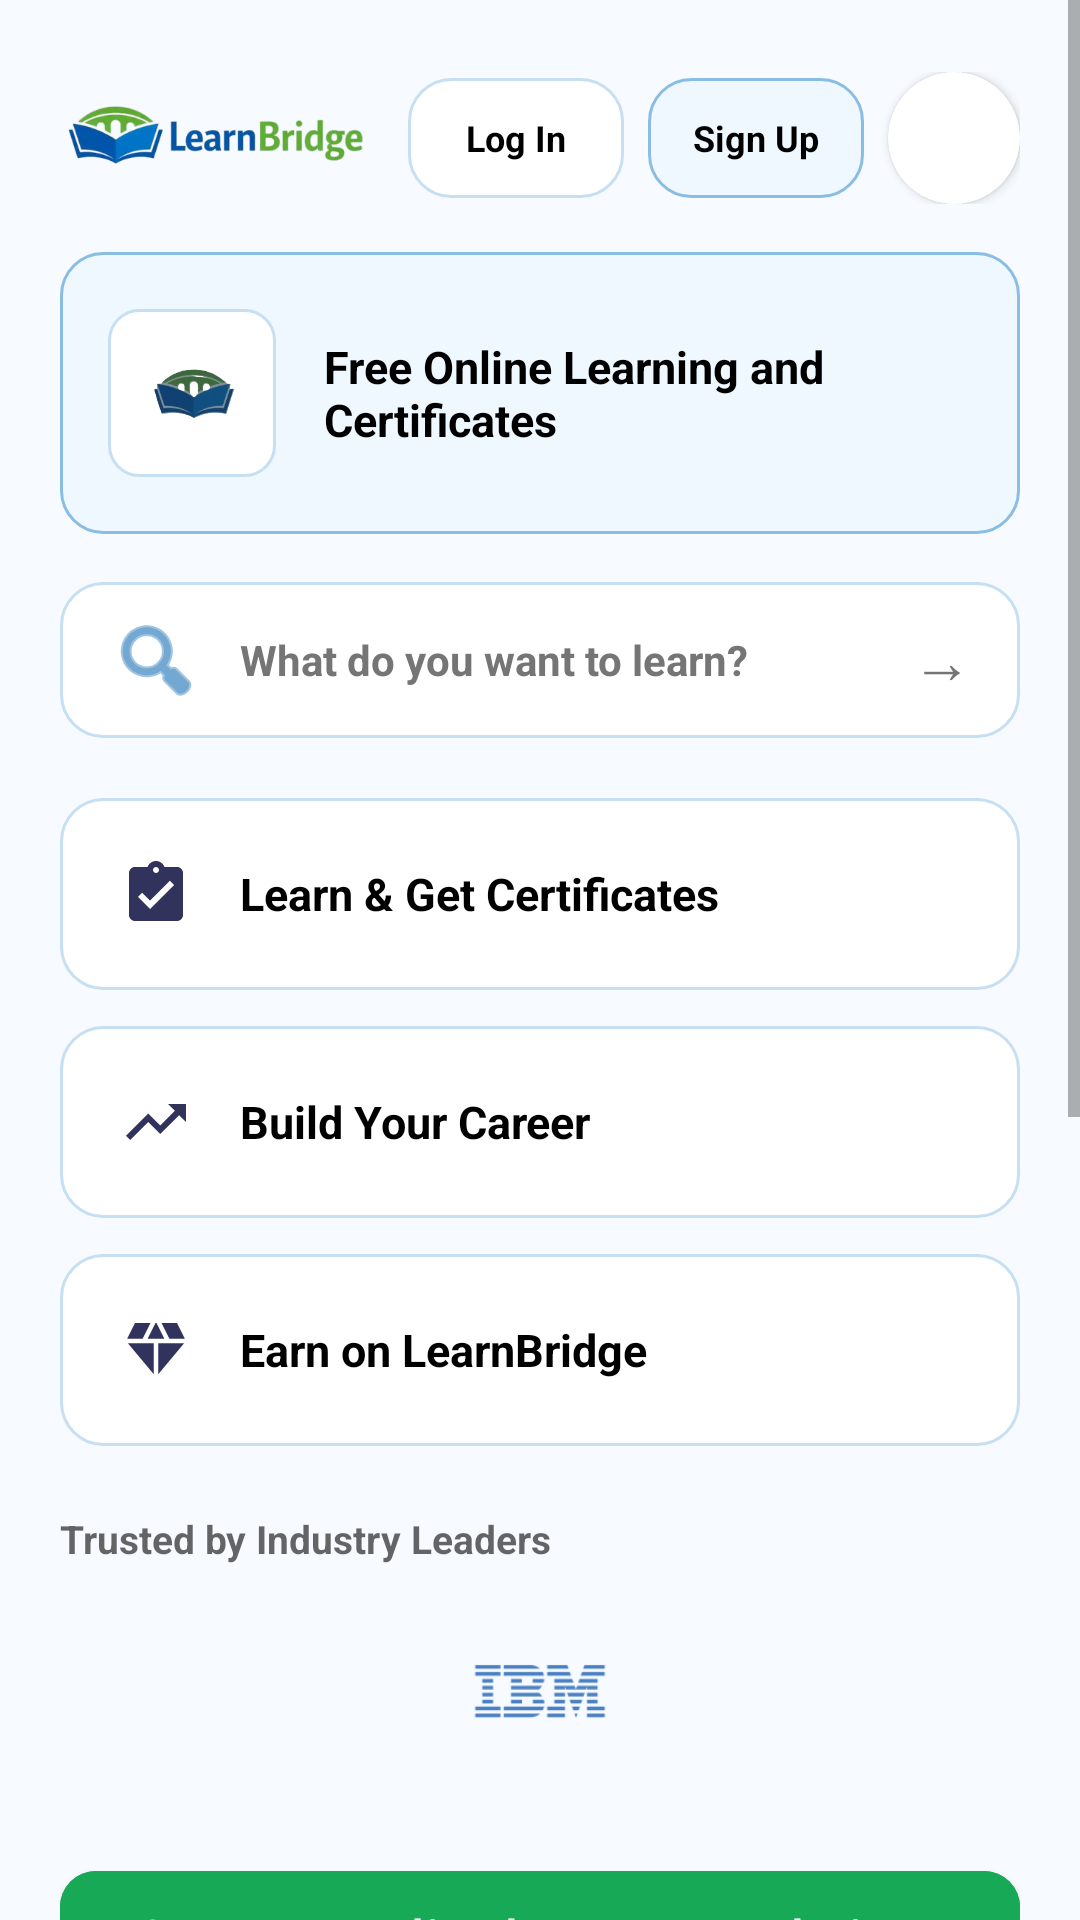

Where icons sit on this 1080×1920 app screen, as (x1,y1,x2,y2):
Search: (120,625,192,696)
